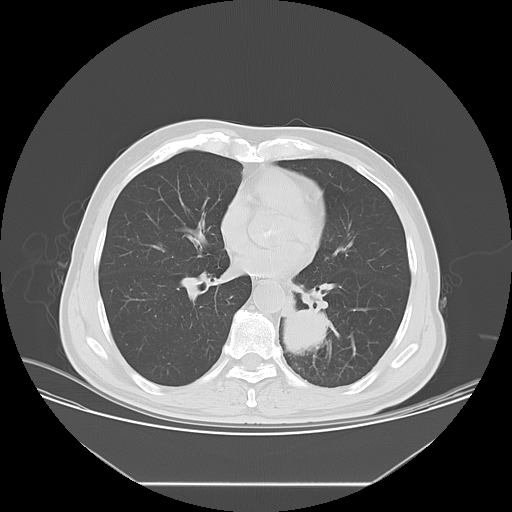nodule: (283, 310, 329, 355)
